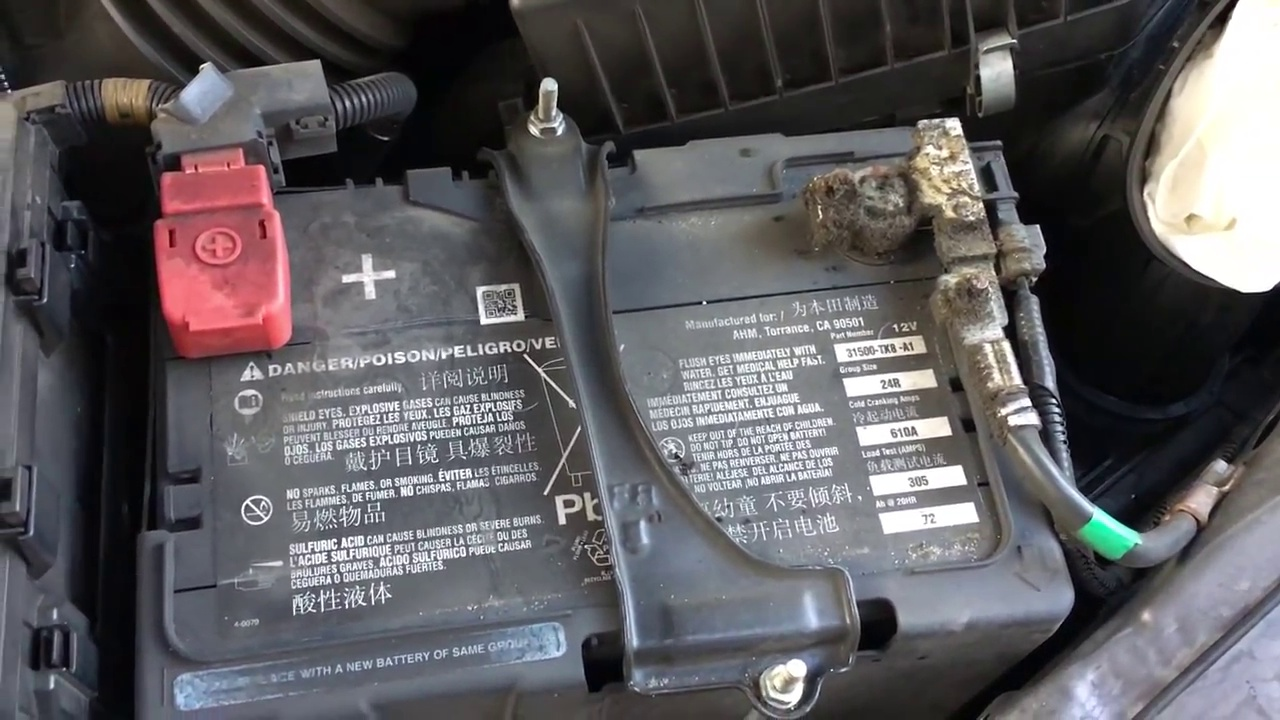battery: (133, 70, 1090, 655)
neg_connected: (792, 109, 1017, 296)
pos_connected: (105, 52, 349, 372)
